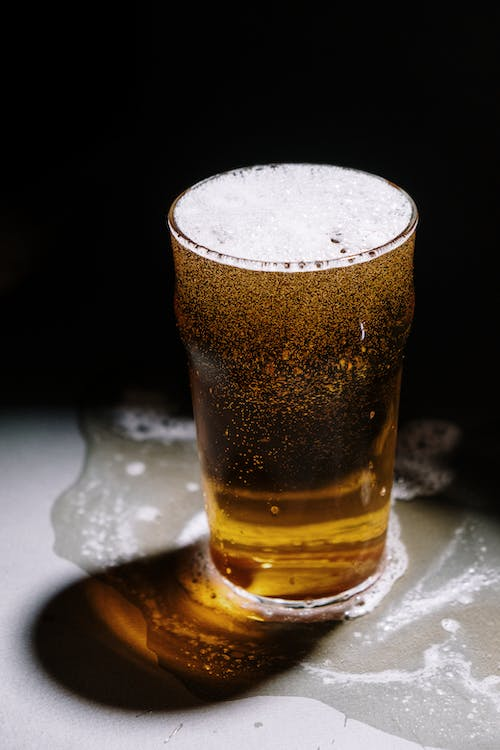alcohol: (165, 161, 418, 611)
